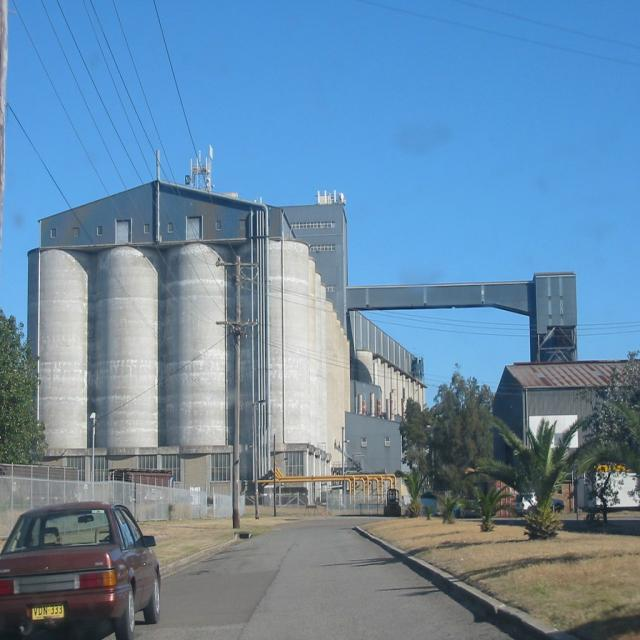car: (2, 497, 157, 636)
